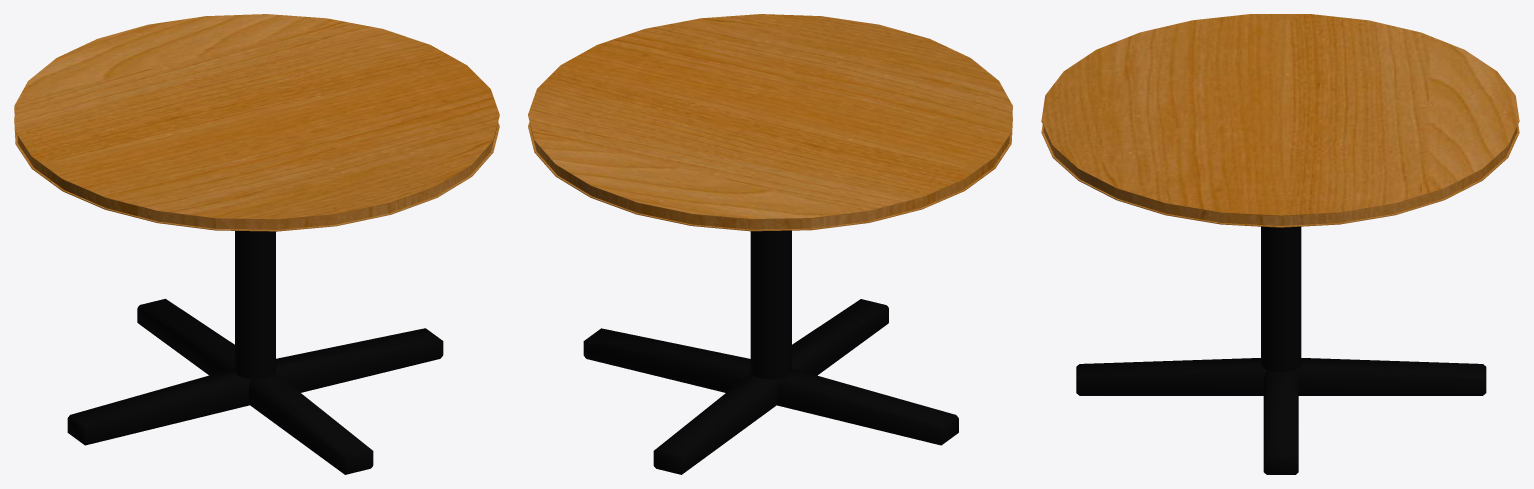
The model's file is Table.FBX.
The picture shows the model from 3 angles, left to right: view 1: azimuth 30°, elevation 25°; view 2: azimuth 150°, elevation 25°; view 3: azimuth 270°, elevation 25°; orthographic projection.
Parts seen in each view (by area): view 1: Cylinder002, Cylinder001; view 2: Cylinder002, Cylinder001; view 3: Cylinder002, Cylinder001.
Part boxes in pixels (x1=…): Cylinder002: x1=14, y1=14, x2=499, y2=231; Cylinder001: x1=67, y1=231, x2=443, y2=474; Cylinder002: x1=528, y1=14, x2=1012, y2=231; Cylinder001: x1=583, y1=230, x2=958, y2=474; Cylinder002: x1=1041, y1=14, x2=1519, y2=227; Cylinder001: x1=1076, y1=226, x2=1486, y2=474.
Size of the model in its own units: 1511 by 963 by 1514.
Materials: 2 (1 with a texture image).
